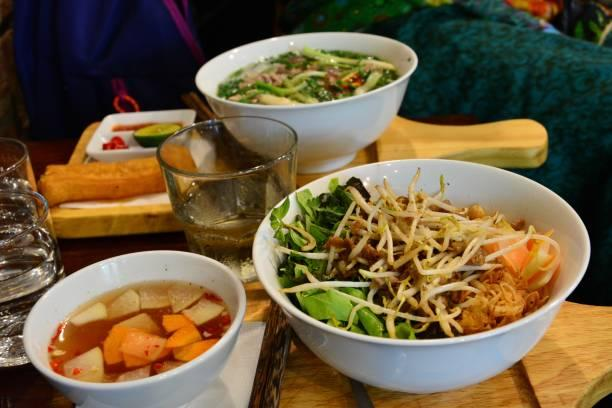Braised Crucian Carp: (253, 158, 584, 392), (22, 248, 241, 406), (196, 31, 414, 177)
